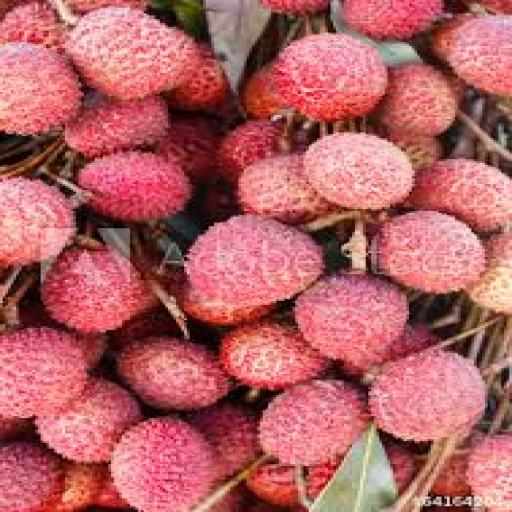lychee: (66, 6, 200, 99), (187, 215, 322, 306), (296, 275, 409, 368), (372, 350, 484, 441), (274, 33, 387, 122), (41, 248, 157, 333), (112, 419, 216, 511), (261, 380, 368, 465), (374, 211, 484, 293), (36, 378, 140, 462), (304, 133, 414, 210), (117, 338, 230, 410), (79, 152, 192, 222), (0, 328, 86, 418), (0, 43, 81, 134), (220, 321, 327, 389), (410, 160, 511, 230), (0, 179, 75, 266), (239, 156, 333, 224), (66, 94, 167, 157), (382, 64, 457, 136), (190, 403, 260, 477), (447, 16, 511, 95), (342, 325, 441, 375), (0, 443, 65, 511), (342, 0, 444, 40), (217, 121, 281, 184), (158, 116, 219, 182), (168, 47, 230, 111), (179, 284, 273, 325), (466, 434, 511, 511), (469, 233, 511, 314), (0, 2, 65, 49), (242, 64, 284, 118), (388, 133, 444, 170), (68, 0, 148, 13), (261, 0, 327, 15)
